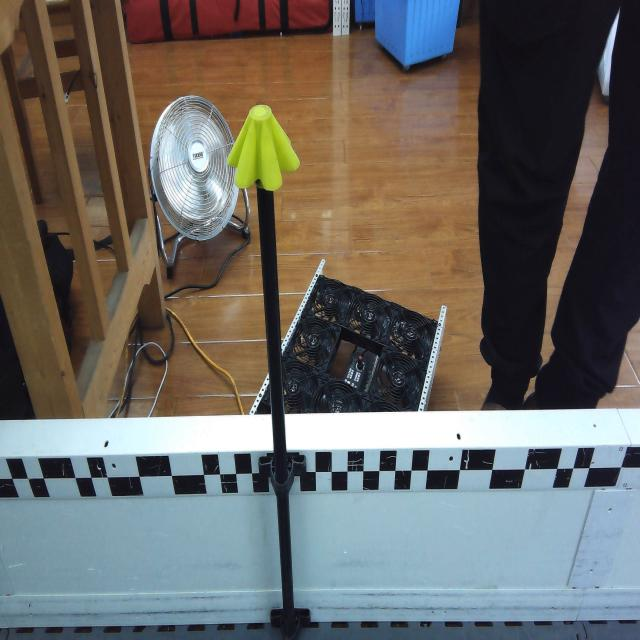Yellow-Stake-Head: (228, 102, 302, 193)
